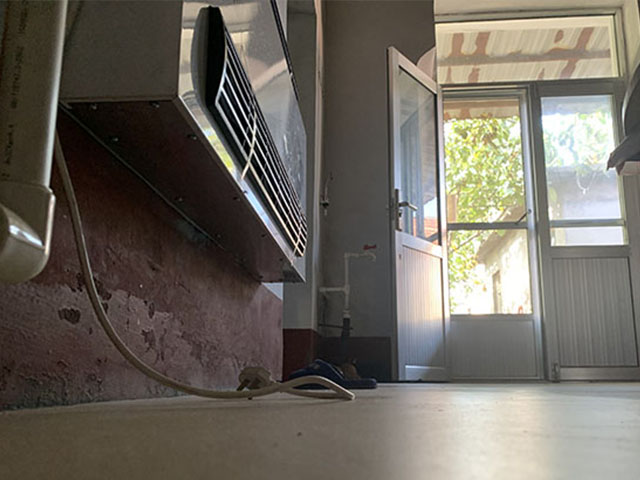slippers: (289, 357, 378, 390)
wire: (131, 355, 356, 401)
